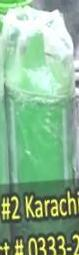cylinder: (1, 0, 79, 255)
